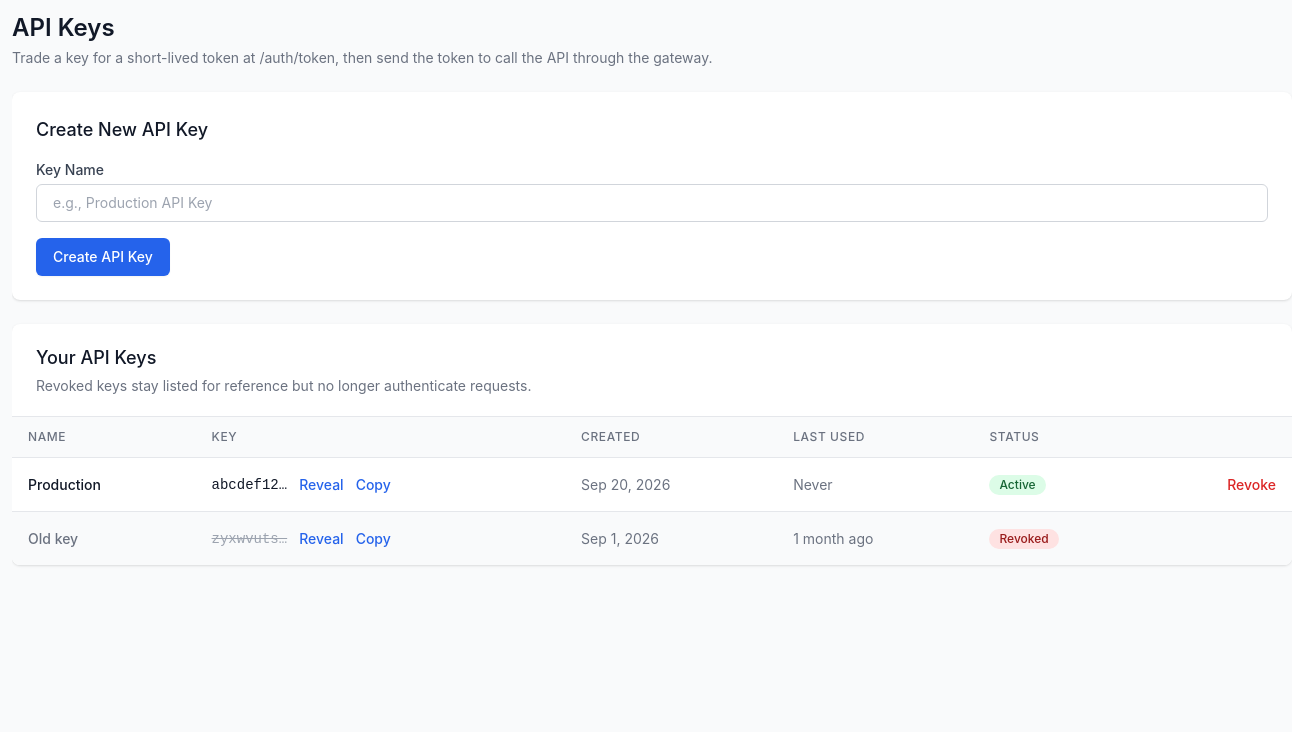
Scenario: ApiKeys › lists keys masked, reveals on request, and marks revoked keys
Expected: the text "abcdef12…" is shown, x1=212 y1=474 x2=287 y2=494
Expected: the text "abcdef1234567890abcdef" is not shown
Click the button "Reveal" next to "abcdef12…" at {"x": 321, "y": 484}, box x1=299 y1=474 x2=344 y2=494
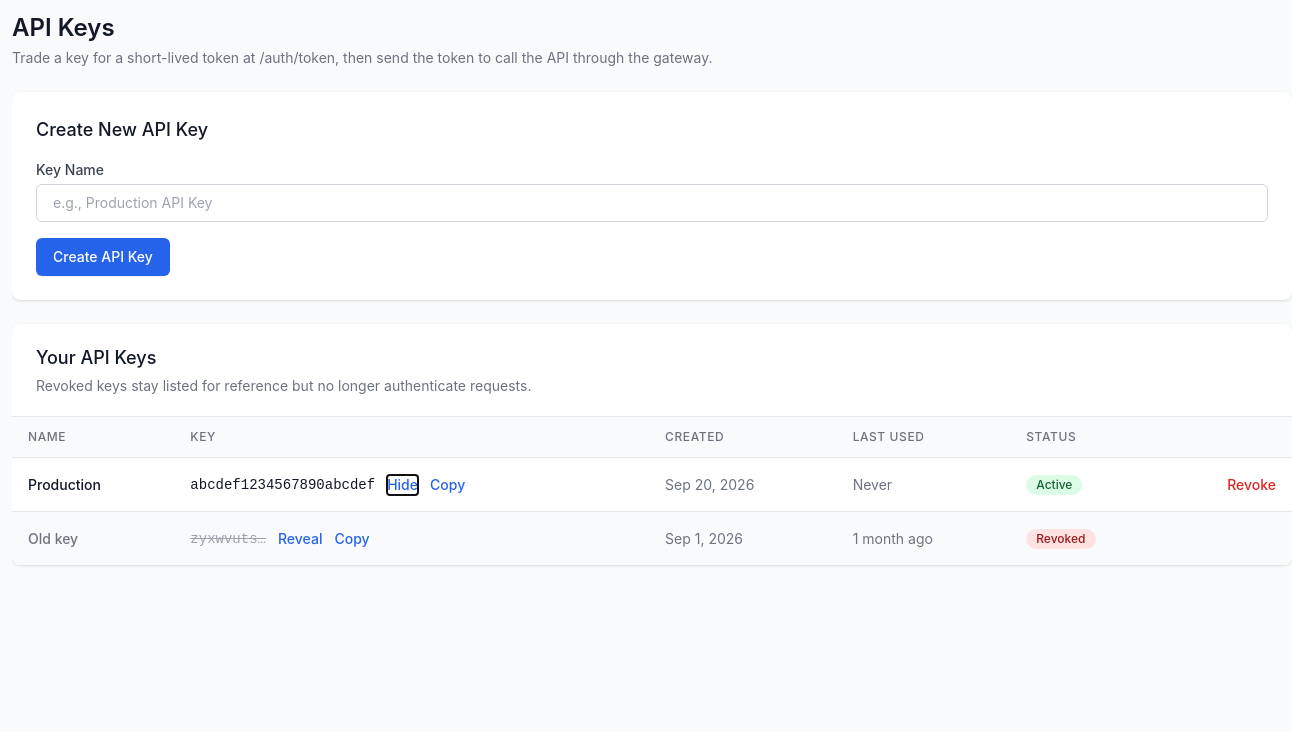
Result: the text "abcdef1234567890abcdef" is shown at x1=190 y1=474 x2=375 y2=494
